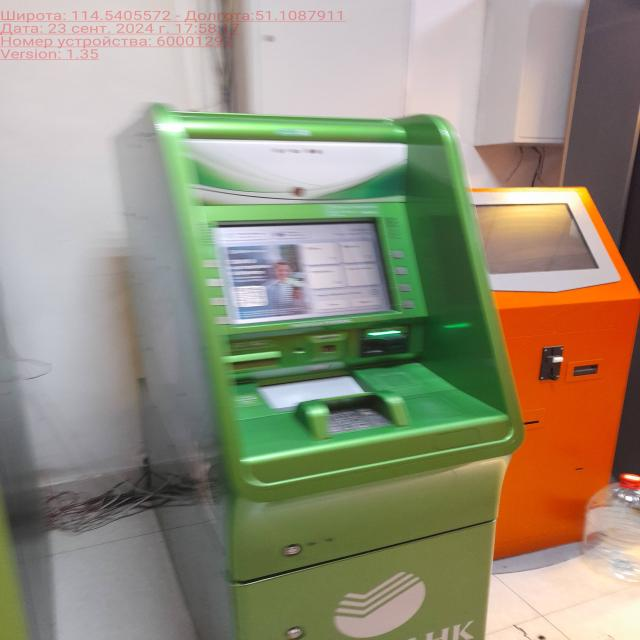bank: (106, 103, 520, 640)
